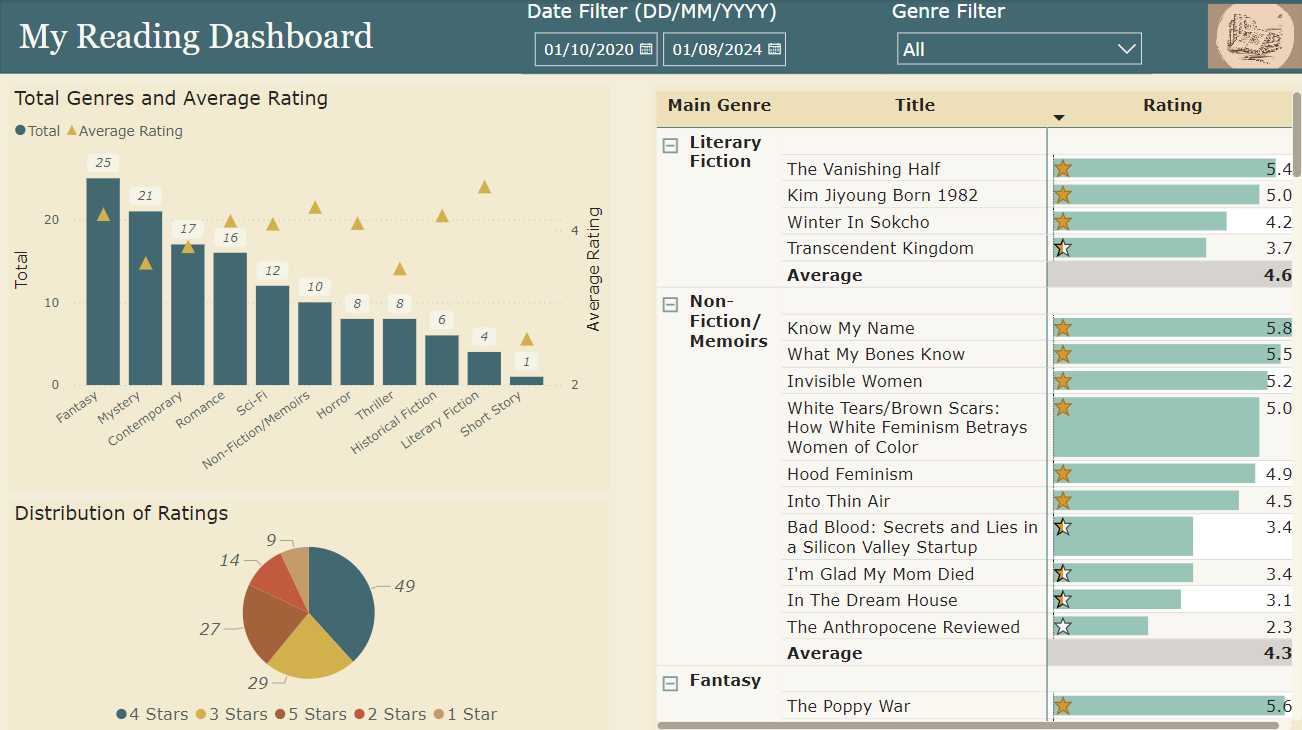

What the dashboard file says about the page in this screenshot:
{"tool":"powerbi","page":{"name":"Reading Stats #1","canvas":[1280,720],"ordinal":1},"visuals":[{"type":"shape","box":[1.3,0,1278.5,73.1],"z":0},{"type":"pivotTable","fields":{"Rows":["Genre.Main Genre","Book_Data.Title"],"Values":["Book_Data.Rating"]},"box":[639.5,85.6,640.8,634.7],"z":1000},{"type":"lineStackedColumnComboChart","title":"Total Genres and Average Rating","fields":{"Category":["Genre.Main Genre"],"Y":["Book_Data.Title"],"Y2":["Book_Data.Rating"]},"box":[11,85.6,587,395],"z":2000},{"type":"slicer","title":"Date Filter (DD/MM/YYYY)","fields":{"Values":["DateTable.Date"]},"box":[512,0,357.1,73.4],"z":3000},{"type":"slicer","title":"Genre Filter","fields":{"Values":["Genre.Main Genre"]},"box":[869.4,0,259.2,73.4],"z":4000},{"type":"pieChart","title":"Distribution of Ratings","fields":{"Y":["Book_Data.Title"],"Category":["Book_Data.GroupedRating"]},"box":[11.6,492,586.3,227.8],"z":5000},{"type":"image","box":[1178.8,0,101.5,73.4],"z":6000}]}

Visuals, with their boxes in screenshot pixels (x1, y1, x2, y2), scaled from the page's 1280x720 canvas onto the 1302x730 screenshot:
shape: Rect(1, 0, 1301, 74)
pivotTable - Genre.Main Genre x Book_Data.Title: Rect(650, 87, 1301, 729)
"Total Genres and Average Rating" lineStackedColumnComboChart: Rect(11, 87, 608, 487)
"Date Filter (DD/MM/YYYY)" slicer: Rect(521, 0, 884, 74)
"Genre Filter" slicer: Rect(884, 0, 1148, 74)
"Distribution of Ratings" pieChart: Rect(12, 499, 608, 729)
image: Rect(1199, 0, 1301, 74)
